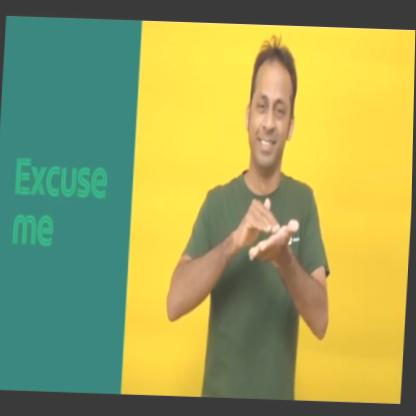ExcuseMe: (163, 40, 343, 400)
